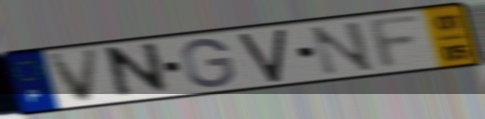F: (366, 12, 426, 73)
G: (180, 37, 238, 90)
N: (106, 39, 172, 102), (308, 19, 378, 78)
V: (45, 46, 104, 106), (235, 26, 288, 85)
